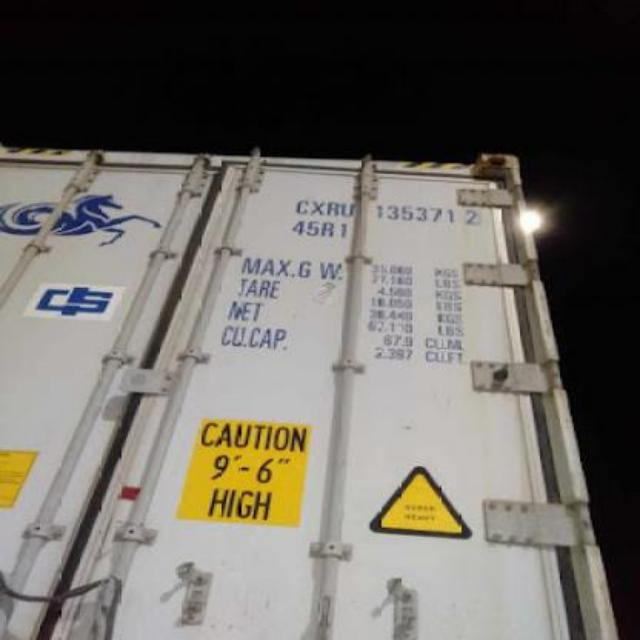1: (444, 205, 456, 223), (378, 203, 384, 219)
2: (466, 209, 478, 225)
3: (388, 204, 400, 220), (416, 205, 428, 221)
5: (400, 204, 416, 220)
7: (428, 207, 442, 223)
C: (296, 197, 310, 215)
R: (328, 200, 340, 216)
U: (342, 200, 356, 216)
X: (312, 202, 326, 214)
